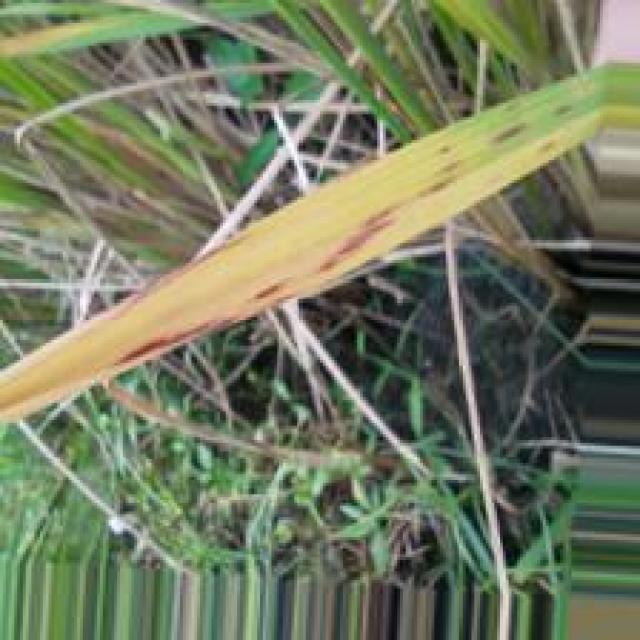Narrow_Brown_Leaf_Spot: (0, 88, 640, 429)
